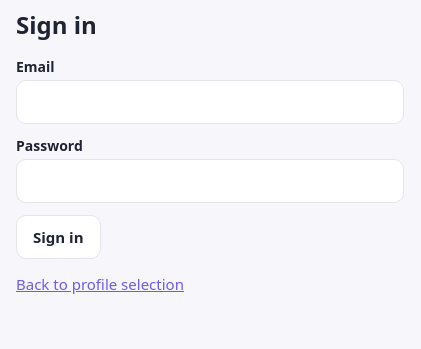
PasswordLoginPage › shows an error on failed login
The image size is (421, 349).
Step 1. Type "alice@example.com" into the field labelled "Email" → (210, 102), box [16, 80, 404, 124]
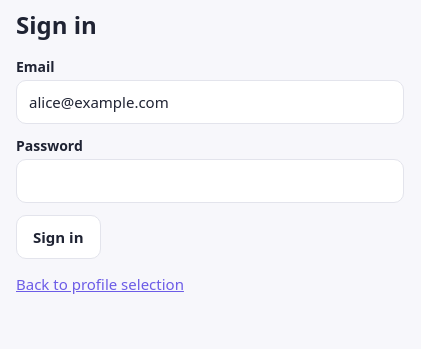
Step 2. Type "wrong" into the password field labelled "Password" → (210, 181), box [16, 159, 404, 203]
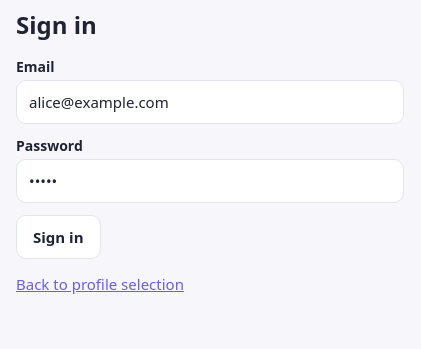
Step 3. Click the button "Sign in" → (58, 237), box [16, 215, 100, 259]
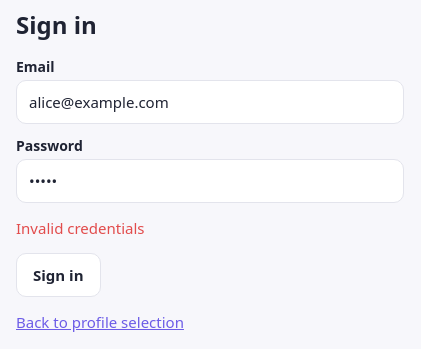
expect the text "Invalid credentials" is shown: met, box [16, 218, 144, 238]
